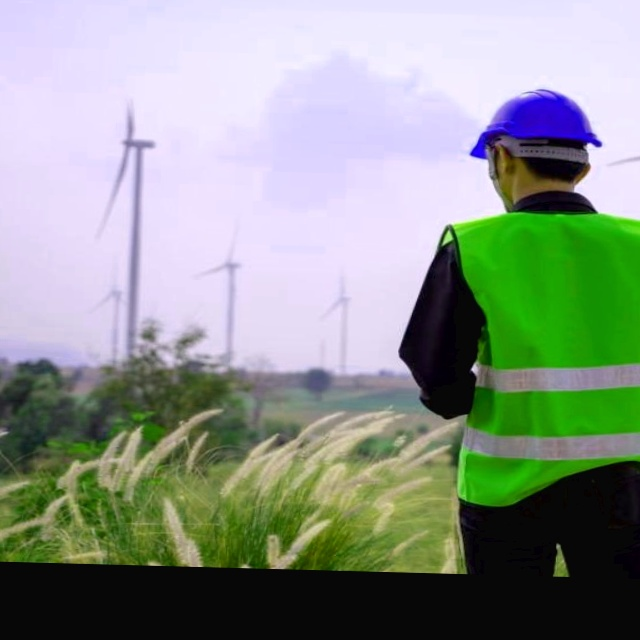Con_Casco: (467, 85, 602, 194)
Con_Chaleco: (438, 210, 640, 480)
